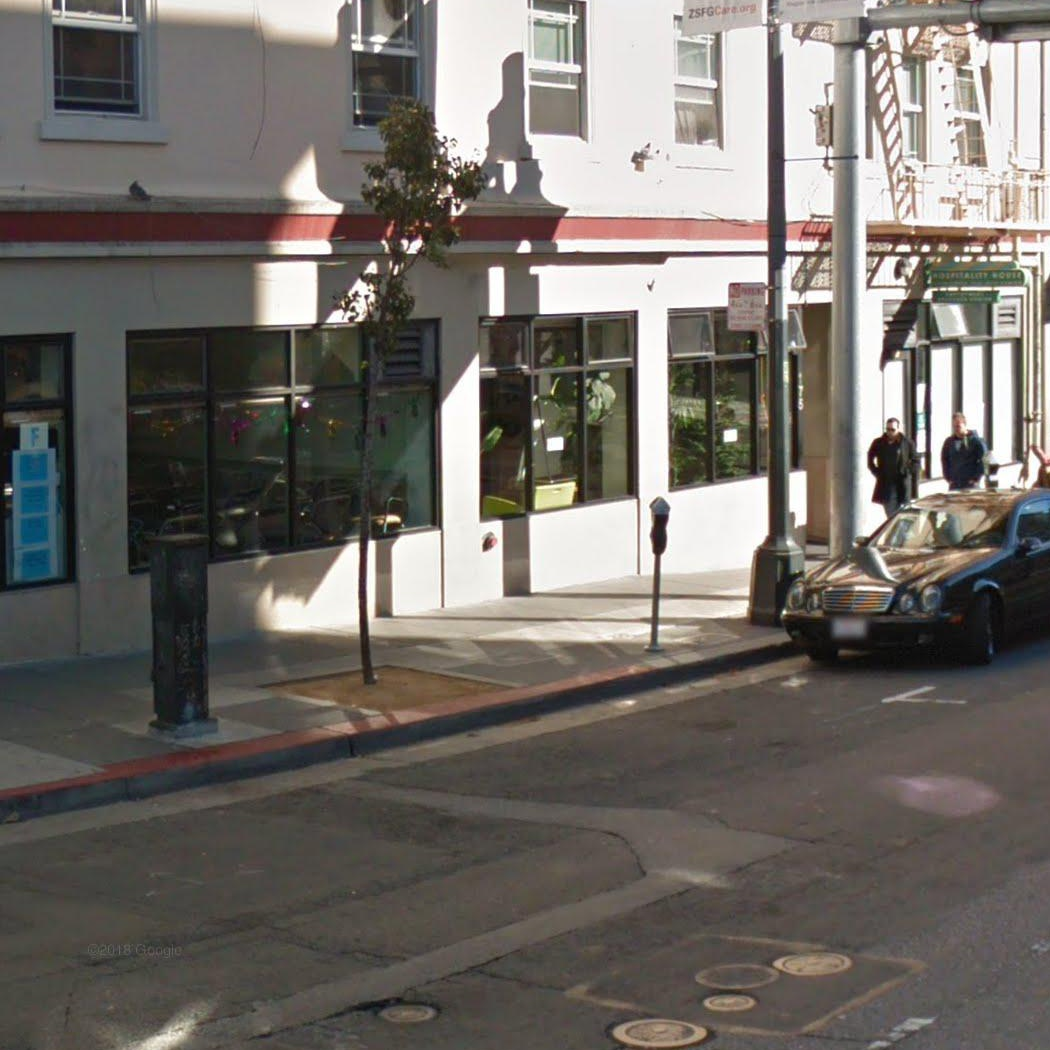No Parking: (725, 279, 769, 334)
